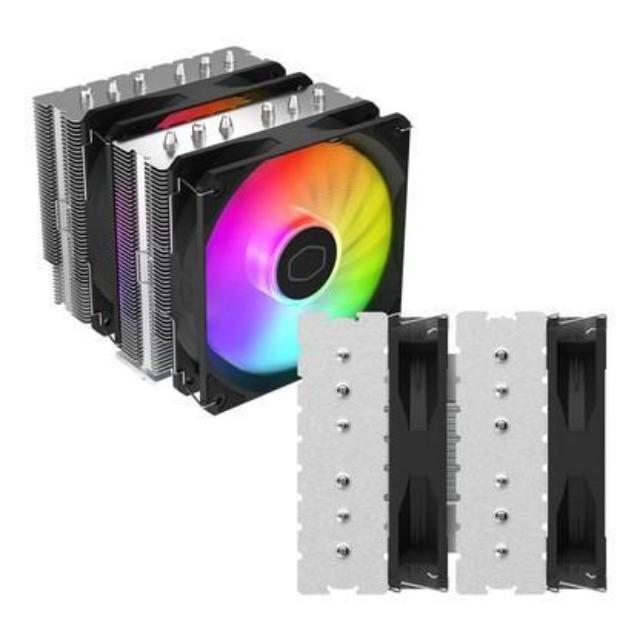CPU_Fan: (28, 41, 408, 416), (290, 302, 612, 608)
